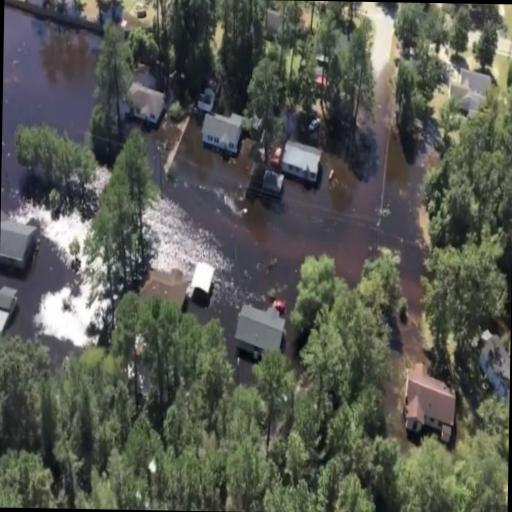flood: (142, 121, 426, 388), (1, 4, 123, 371)
house: (405, 367, 456, 452), (473, 336, 510, 450), (233, 302, 287, 358), (0, 211, 40, 276), (280, 142, 324, 182), (198, 114, 243, 151), (446, 70, 492, 105), (126, 84, 164, 123), (141, 271, 189, 301)
